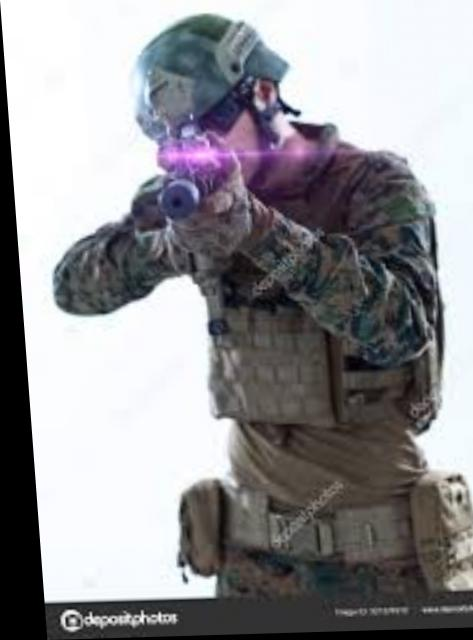other: (121, 17, 456, 598)
